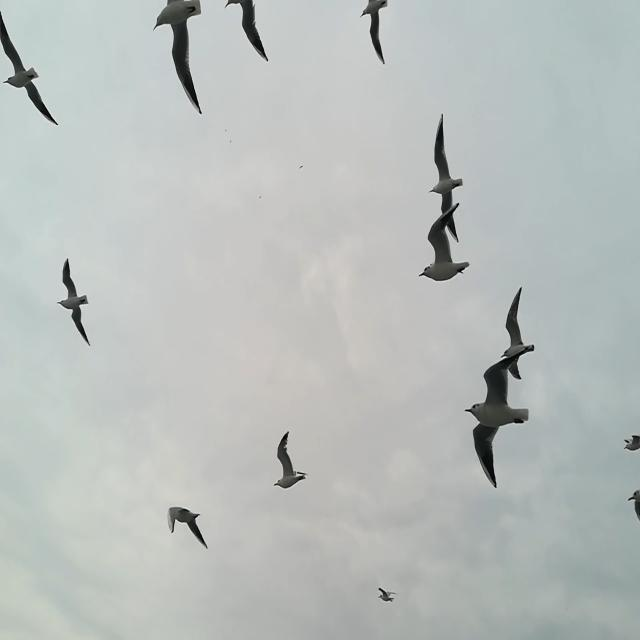bird: (464, 351, 530, 490), (0, 10, 58, 126), (152, 0, 202, 115), (428, 113, 463, 244), (418, 202, 470, 282), (500, 287, 535, 382), (57, 257, 92, 347), (225, 0, 268, 62), (272, 430, 308, 490), (167, 504, 210, 550), (360, 0, 389, 65), (626, 485, 640, 526), (376, 586, 398, 602), (622, 434, 640, 452), (298, 163, 304, 171)
